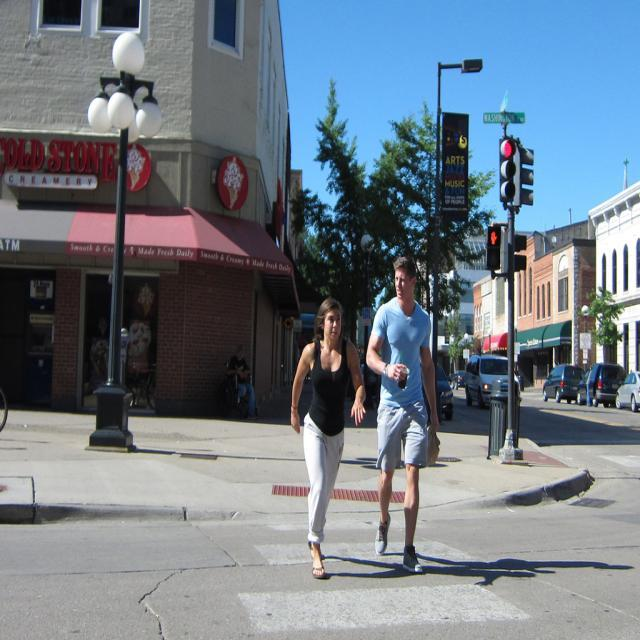off traffic light: (518, 142, 536, 206)
traffic light: (496, 138, 518, 201), (487, 226, 500, 269)
